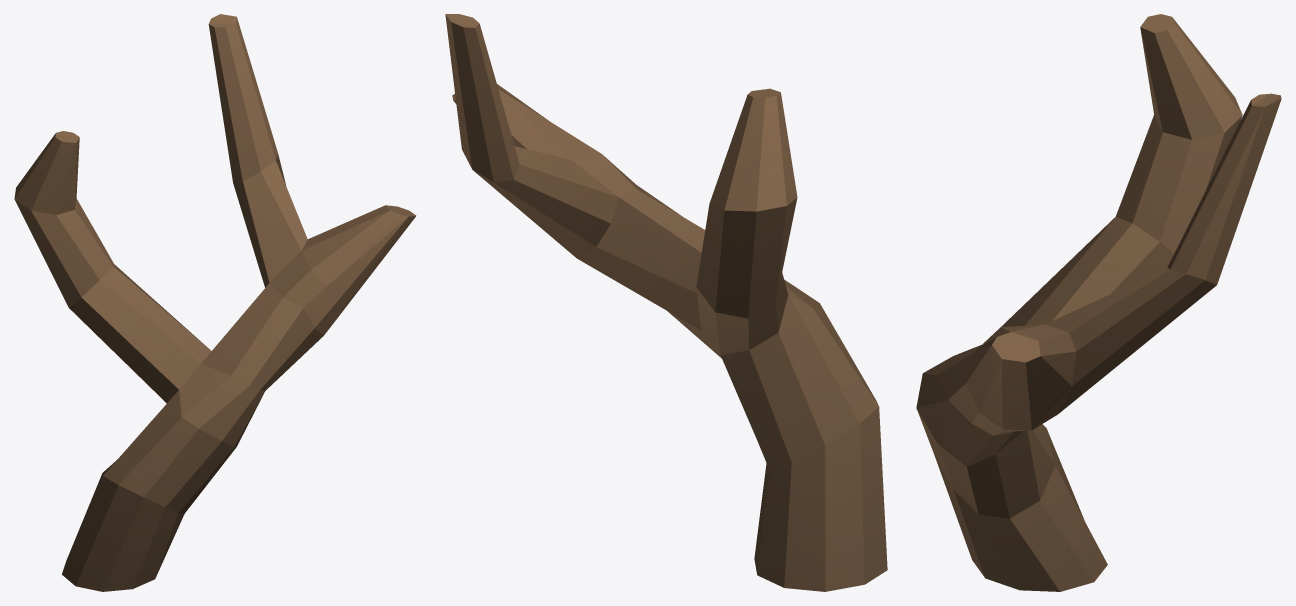
Rendered from Dead_Bush_B.obj.
The picture shows the model from 3 angles, left to right: view 1: azimuth 30°, elevation 25°; view 2: azimuth 150°, elevation 25°; view 3: azimuth 270°, elevation 25°; orthographic projection. The views are drawn at different scales.
Visible parts, largest first — view 1: Dead_Bush_B; view 2: Dead_Bush_B; view 3: Dead_Bush_B.
Boxes of the visible parts, box(x1,y1,x2,y2) form: Dead_Bush_B: box(14, 14, 416, 591); Dead_Bush_B: box(445, 14, 887, 591); Dead_Bush_B: box(916, 14, 1281, 591).
Size of the model in its own units: 0.6575 by 0.8241 by 0.4586.
